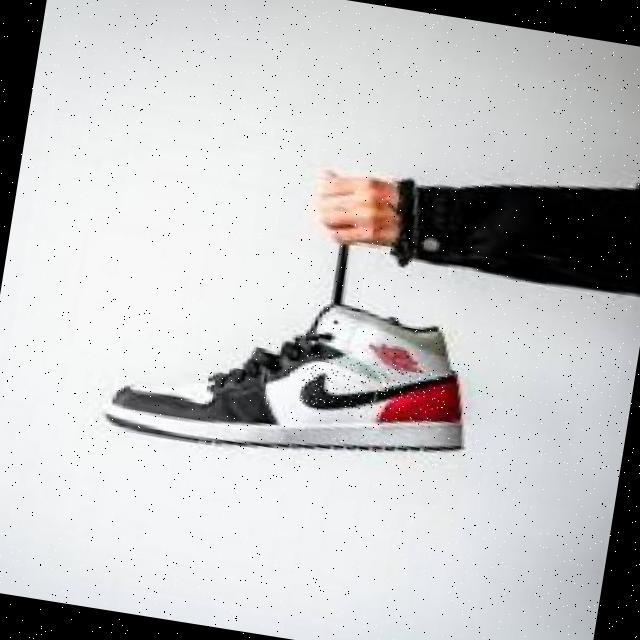Nike: (298, 351, 449, 431)
